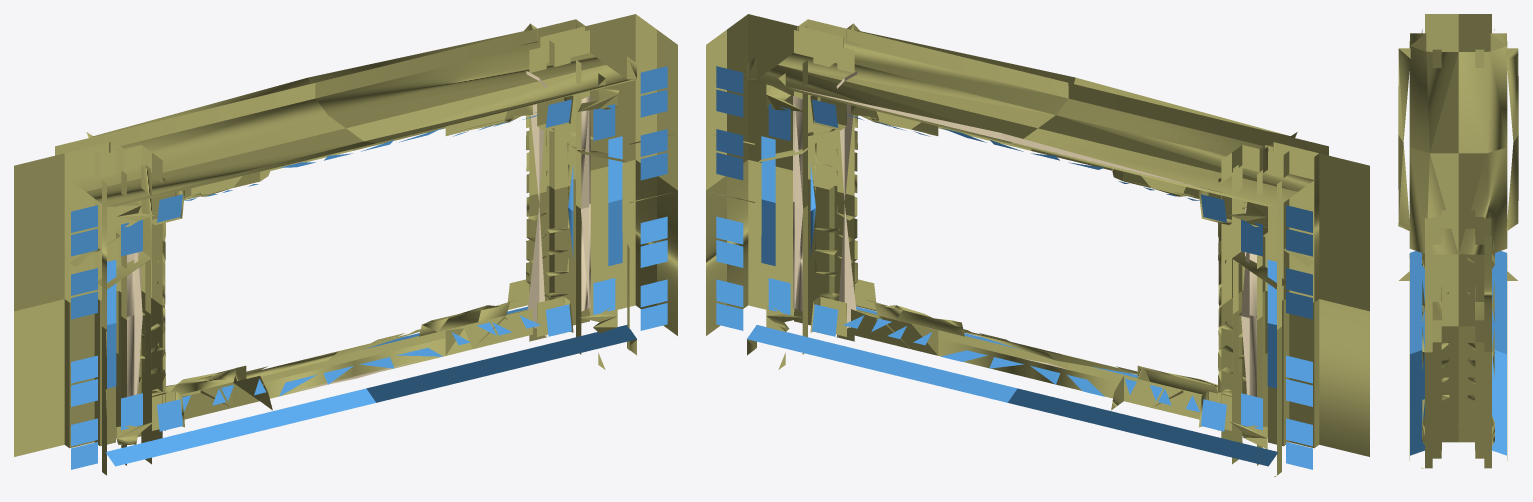
The model's file is grimhex_building_3_floor_landingpad_corner_48x24_a_lod4.glb.
The picture shows the model from 3 angles, left to right: view 1: azimuth 30°, elevation 25°; view 2: azimuth 150°, elevation 25°; view 3: azimuth 270°, elevation 25°; orthographic projection. The views are drawn at different scales.
Bounding box in the file's own units: 80 × 35.87 × 16.8.
